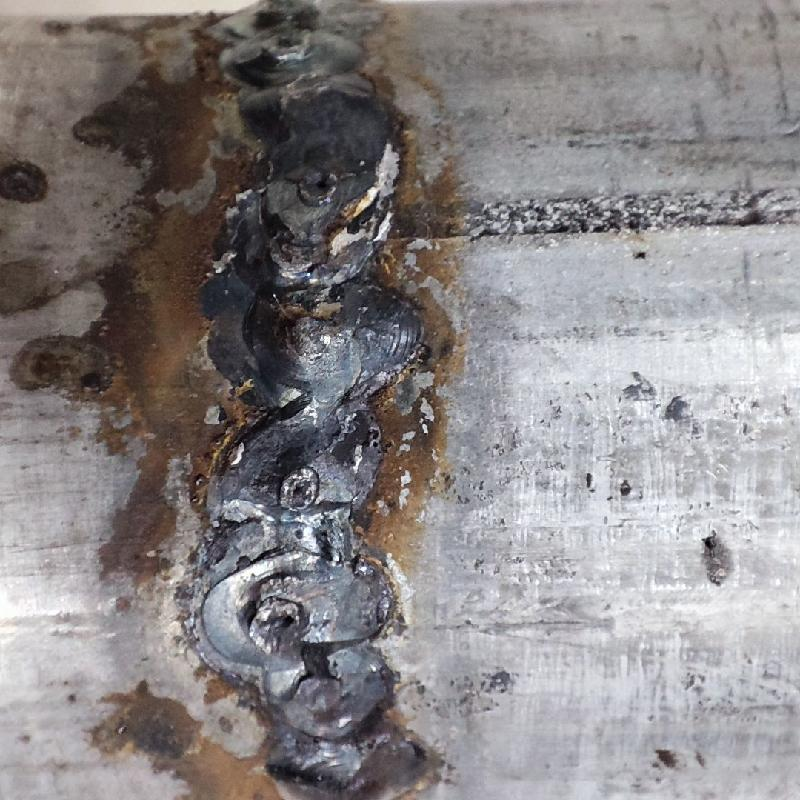Surface_pores: (256, 595, 310, 635), (275, 474, 313, 511), (303, 170, 343, 204)
wrong_size: (197, 5, 437, 794)
